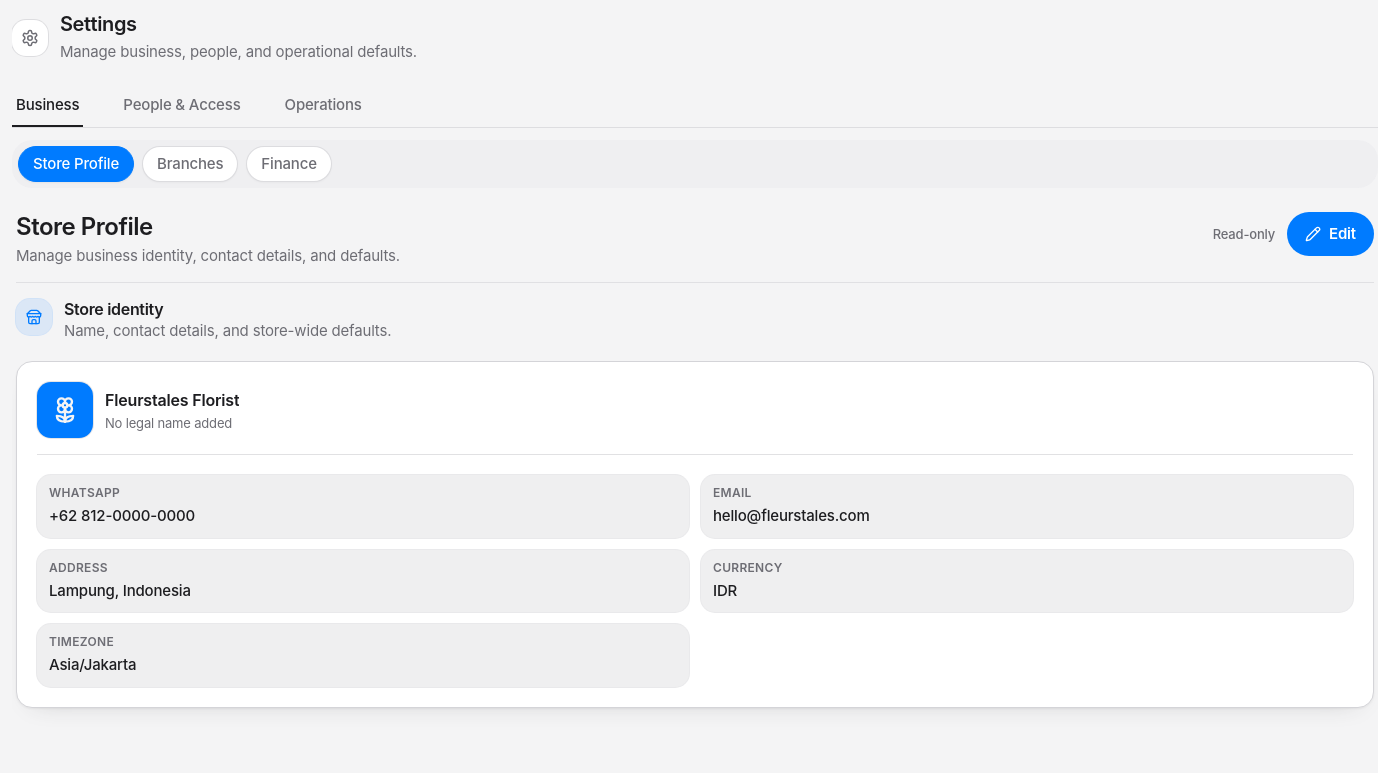
Test: Owner Settings read-only presentation › reveals actual form controls only after entering Edit mode
Click the button "Edit" at (1330, 234), box [1287, 212, 1374, 256]
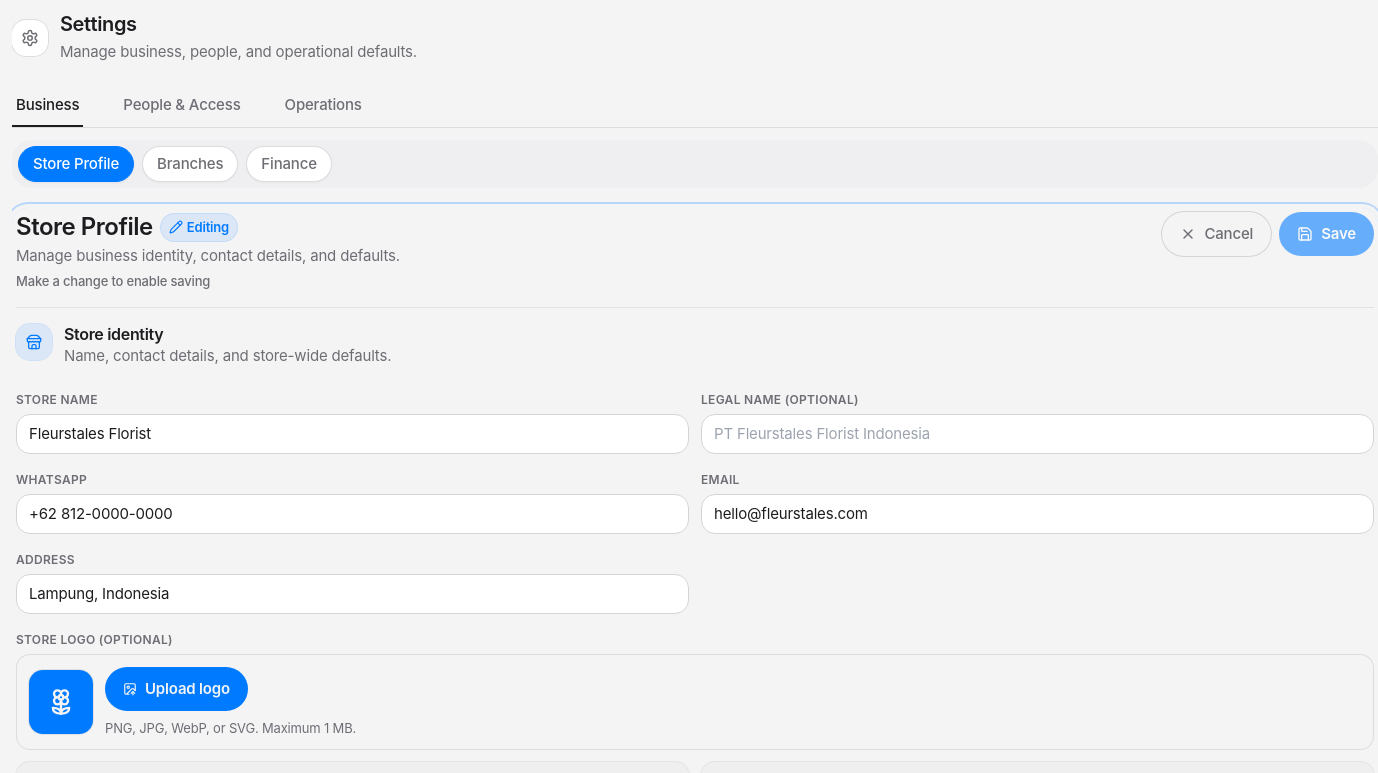
Result: the field labelled "Store name" is shown at [16, 414, 689, 454]
